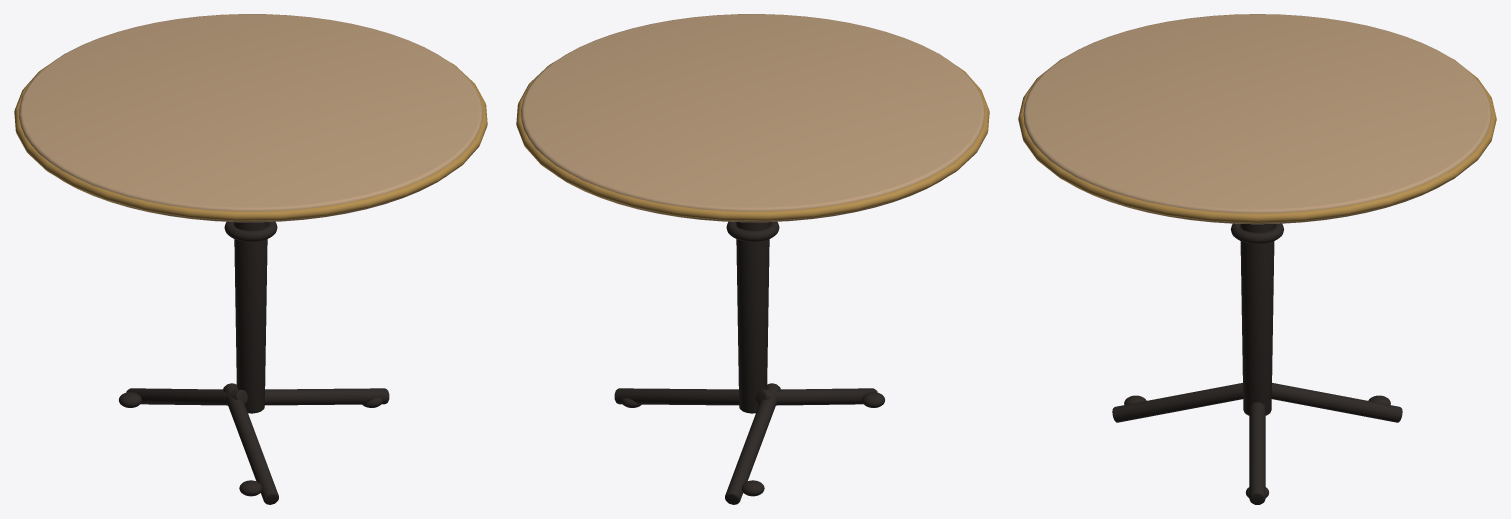
Rendered from table_vieille.glb.
3 views of the same model, side by side, from view 1: azimuth 30°, elevation 25°; view 2: azimuth 150°, elevation 25°; view 3: azimuth 270°, elevation 25° (orthographic).
Parts seen in each view (by area): view 1: plateau, bord, pied, patte0, patte2, patte1, bague; view 2: plateau, bord, pied, patte0, patte1, patte2, bague; view 3: plateau, bord, pied, patte1, patte2, patte0, bague.
Boxes of the visible parts, x1,y1,x2,y2 form: plateau: (19,14,482,222); bord: (14,53,487,220); pied: (234,222,267,413); patte0: (264,388,389,405); patte2: (223,383,278,504); patte1: (126,388,247,405); bague: (224,221,277,241); plateau: (521,14,984,222); bord: (516,53,989,220); pied: (736,222,769,413); patte0: (614,388,739,405); patte1: (725,383,780,504); patte2: (756,388,877,405); bague: (726,221,779,241); plateau: (1023,14,1491,224); bord: (1018,58,1496,223); pied: (1240,224,1274,415); patte1: (1271,383,1402,422); patte2: (1112,383,1243,422); patte0: (1249,402,1265,504); bague: (1231,223,1283,243).
Bounding box in the file's own units: 1.02 × 0.7879 × 1.02.
